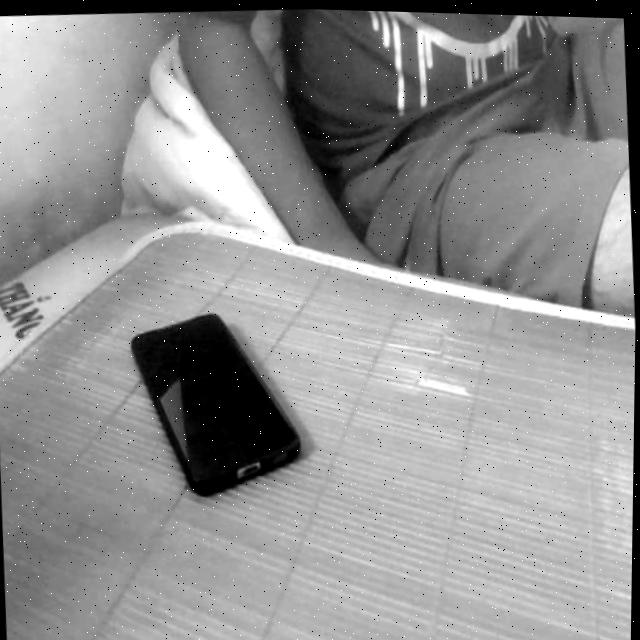phone: (114, 287, 320, 514)
